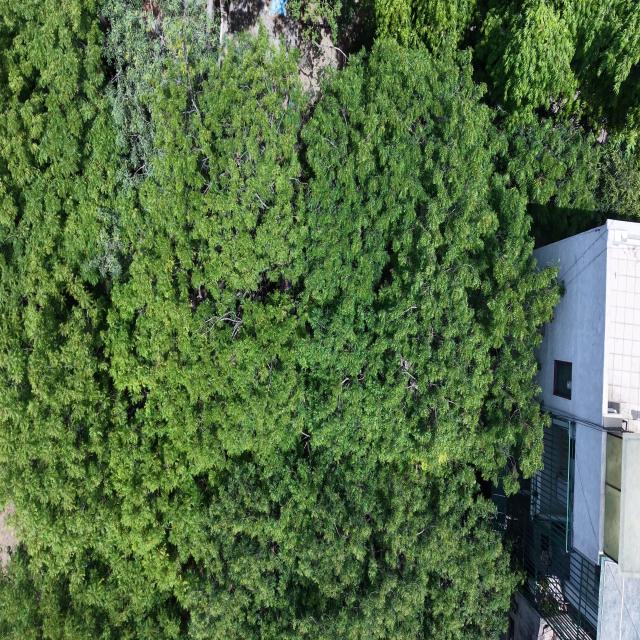VEGETATION_TREE: (0, 0, 639, 639), (364, 0, 639, 239), (372, 0, 639, 130)
